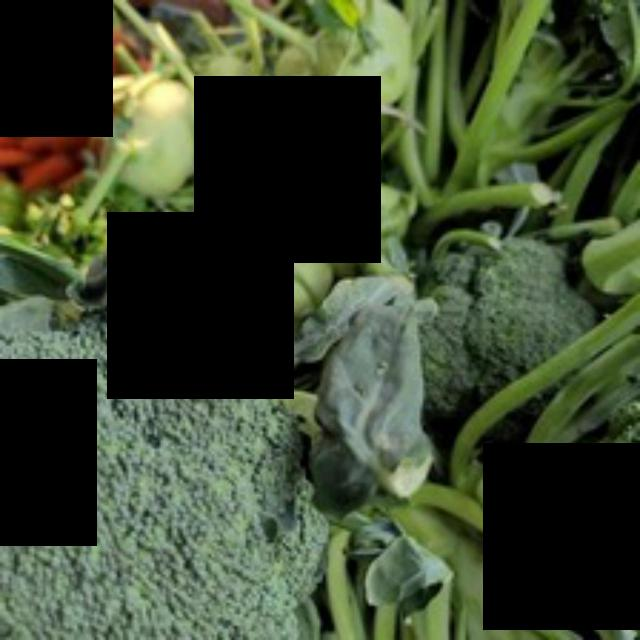broccoli: (0, 268, 318, 640)
